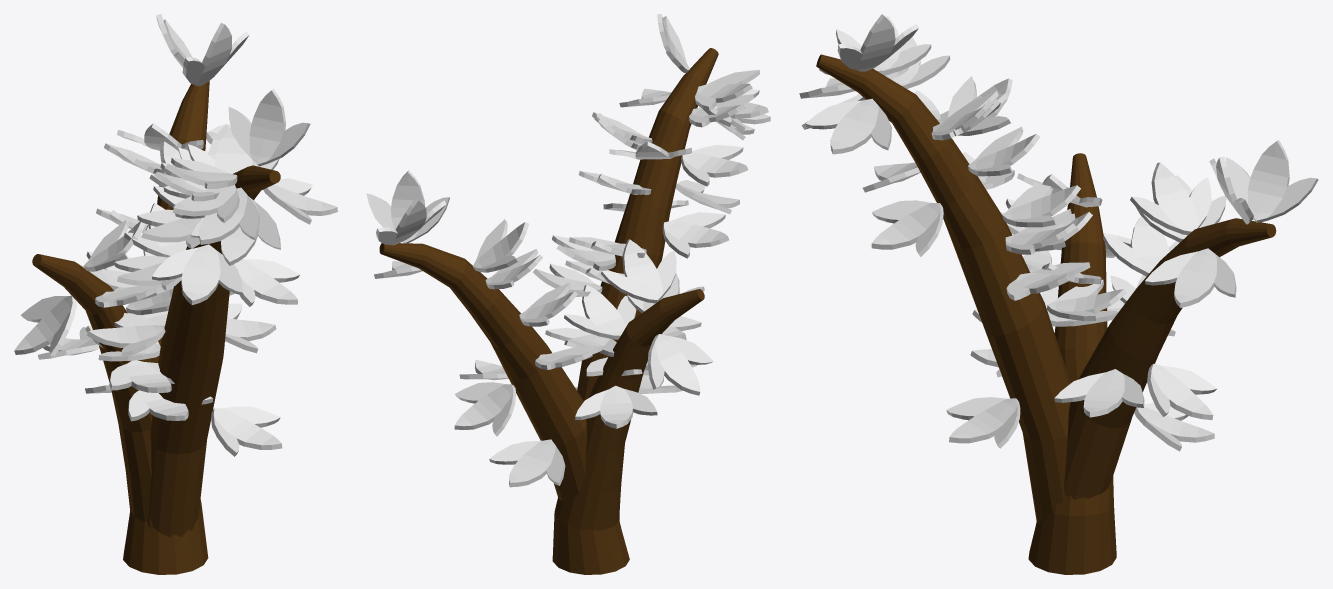
File: Arbusto2Hoja2Otoño.fbx
3 renders of one model, left to right at view 1: azimuth 30°, elevation 25°; view 2: azimuth 150°, elevation 25°; view 3: azimuth 270°, elevation 25°, orthographic. The views are drawn at different scales.
Visible parts, largest first — view 1: RamasArbusto2Hoja2Otoño; view 2: RamasArbusto2Hoja2Otoño; view 3: RamasArbusto2Hoja2Otoño.
Boxes of the visible parts, x1,y1,x2,y2 form: RamasArbusto2Hoja2Otoño: [14, 14, 337, 574]; RamasArbusto2Hoja2Otoño: [366, 14, 770, 574]; RamasArbusto2Hoja2Otoño: [799, 14, 1318, 574].
Size of the model in its own units: 81.5 by 136 by 117.
